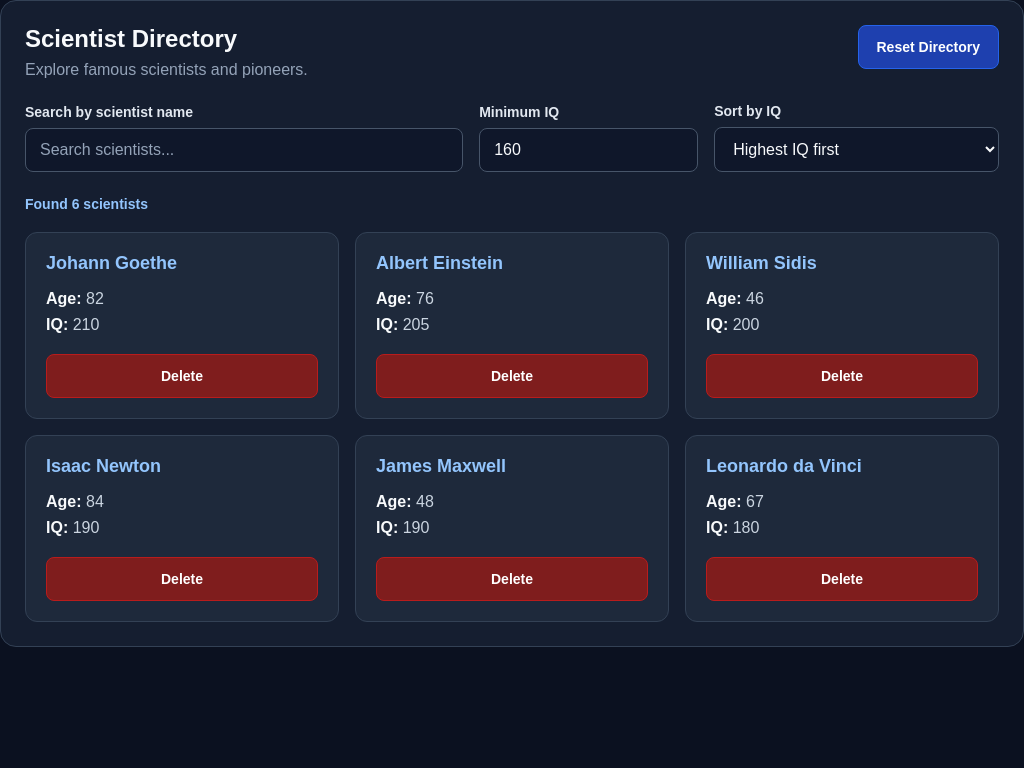
Test: ScientistDirectory › filters names case-insensitively
In the search field labelled "Search by scientist name": (244, 150) [25,128,463,172], type "EINSTEIN"
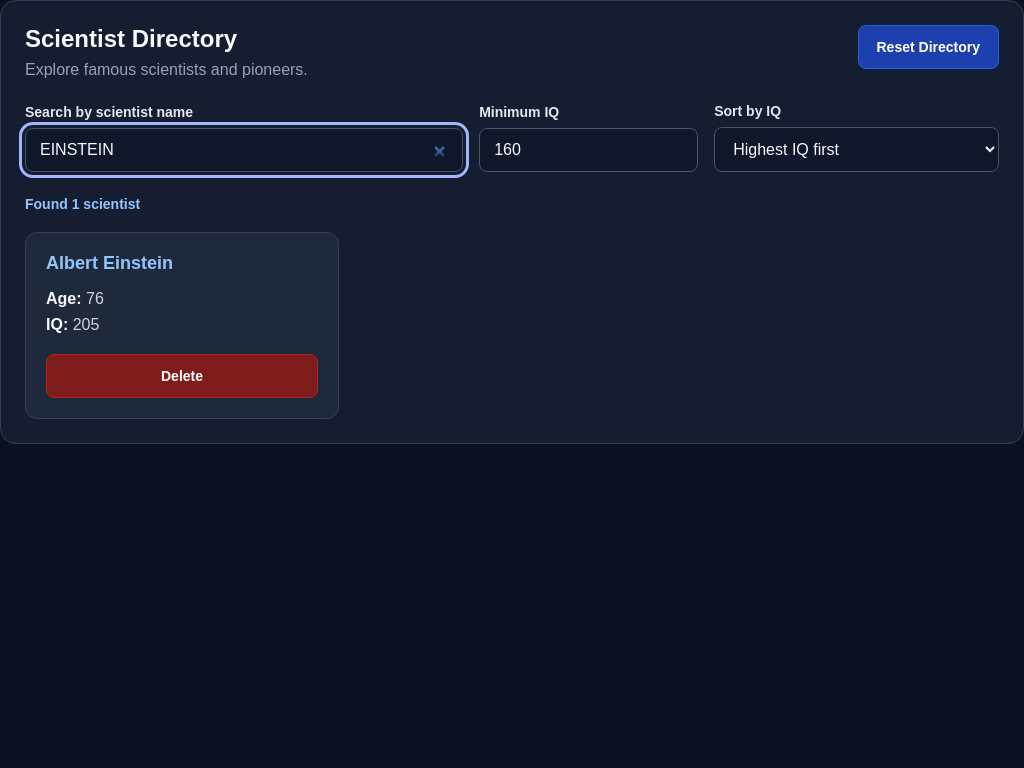
Check: the heading "Albert Einstein" is shown, box [46,253,173,273]
Check: the message reads "Found 1 scientist", box [25,196,140,212]
Check: the heading "Isaac Newton" is gone
